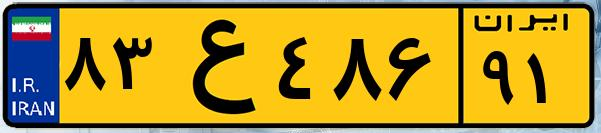1: (525, 38, 570, 115)
3: (110, 28, 158, 98)
4: (270, 28, 330, 110)
6: (385, 28, 445, 110)
8: (330, 28, 385, 110), (57, 26, 110, 100)
9: (475, 38, 525, 113)
ع: (158, 12, 270, 120)
